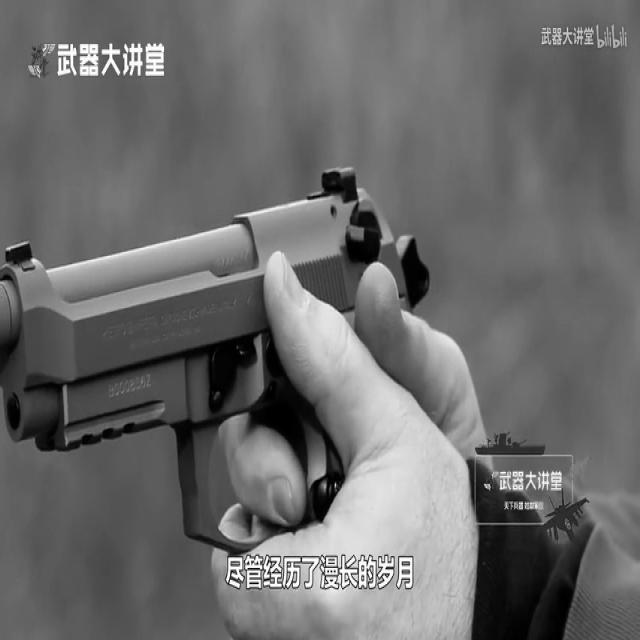Hand-Gun: (0, 96, 474, 640)
